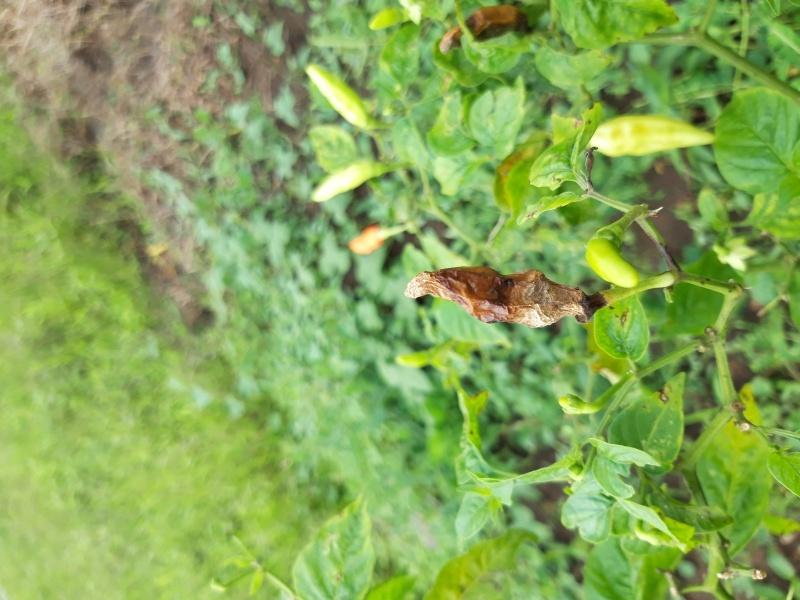antraknosa: (405, 265, 586, 326), (439, 6, 520, 54)
cabai_normal: (588, 116, 715, 156), (304, 63, 371, 128), (585, 240, 648, 287), (311, 161, 380, 203)
